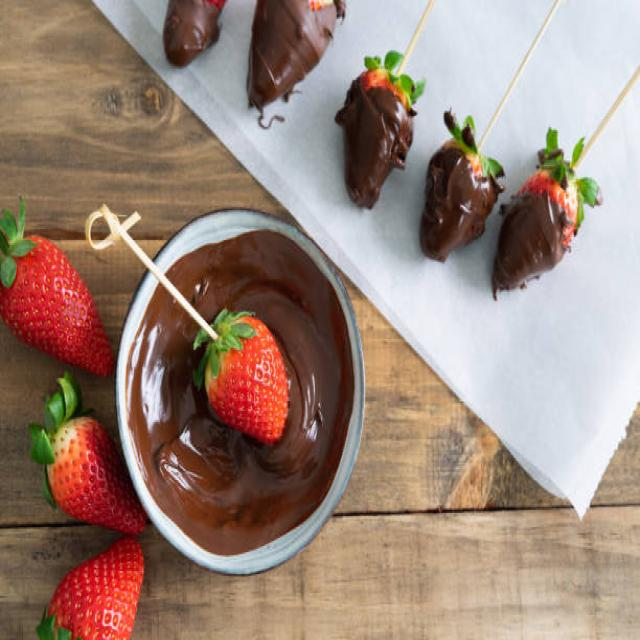Healthy Fruit: (0, 235, 115, 380), (46, 414, 147, 540), (43, 532, 145, 640), (207, 312, 288, 444)
